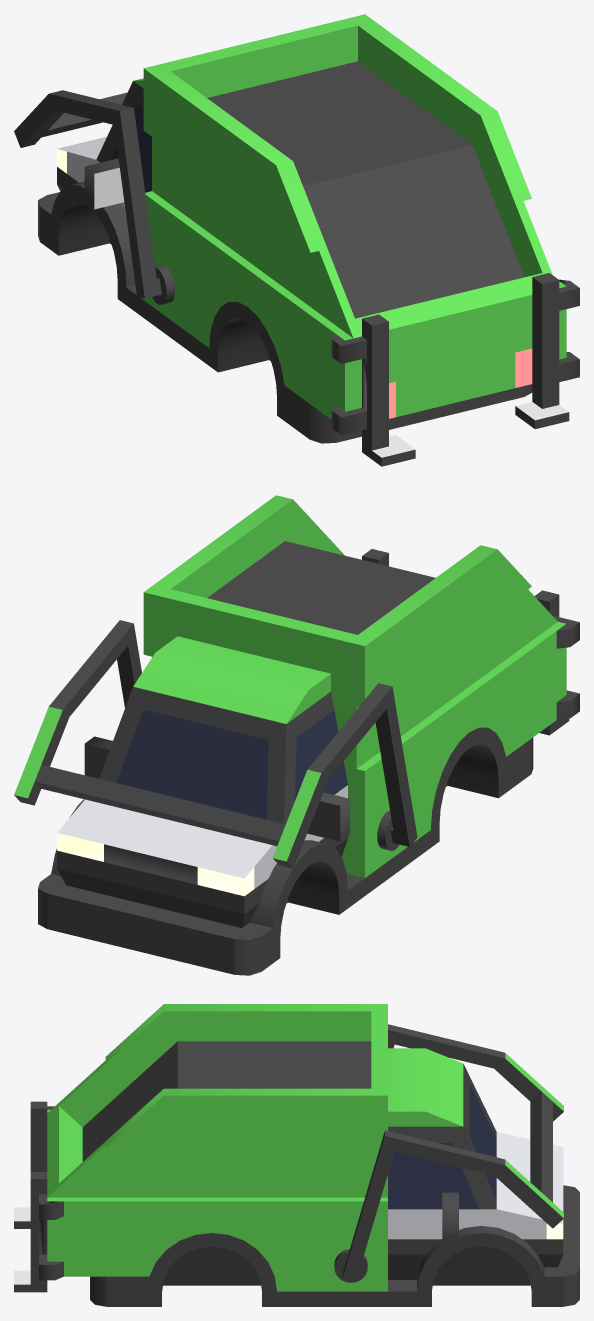
File: SM_Garbage_Truck_Body.fbx
3 views of the same model, one above another, from view 1: azimuth 30°, elevation 25°; view 2: azimuth 150°, elevation 25°; view 3: azimuth 270°, elevation 25° (orthographic). The views are drawn at different scales.
Parts seen in each view (by area): view 1: SM_Garbage_Truck_Body; view 2: SM_Garbage_Truck_Body; view 3: SM_Garbage_Truck_Body.
Boxes of the visible parts, box(x1,y1,x2,y2) form: SM_Garbage_Truck_Body: box(14, 14, 579, 466); SM_Garbage_Truck_Body: box(14, 495, 579, 975); SM_Garbage_Truck_Body: box(14, 1004, 579, 1306).
Size of the model in its own units: 1.6 by 1.4 by 3.4.
